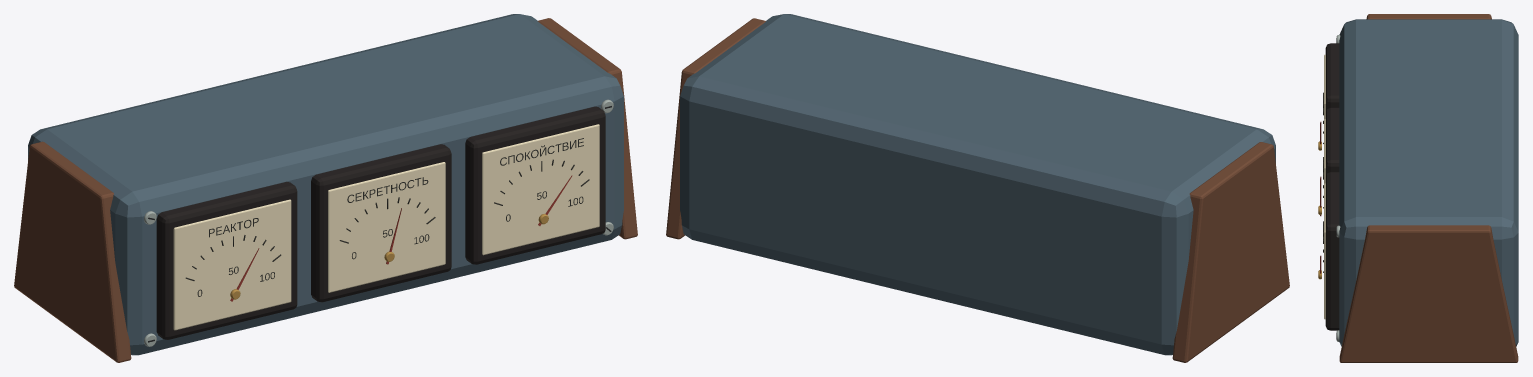
Rendered from TripleGaugePanel.fbx.
3 views of the same model, side by side, from view 1: azimuth 30°, elevation 25°; view 2: azimuth 150°, elevation 25°; view 3: azimuth 270°, elevation 25° (orthographic). The views are drawn at different scales.
Parts seen in each view (by area): view 1: Blue enamel case, Walnut end panel, Ivory dial.001, Ivory dial.002, Ivory dial.003, Gauge frame.001, Gauge frame.002, Gauge frame.003, Walnut end panel.001; view 2: Blue enamel case, Walnut end panel, Walnut end panel.001; view 3: Blue enamel case, Walnut end panel.001, Gauge frame.003, Gauge frame.001, Gauge frame.002, Walnut end panel, Ivory dial.003.
Boxes of the visible parts, box(x1,y1,x2,y2) form: Blue enamel case: box(28, 14, 623, 355); Walnut end panel: box(14, 141, 131, 362); Ivory dial.001: box(173, 199, 291, 330); Ivory dial.002: box(328, 162, 445, 292); Ivory dial.003: box(482, 124, 599, 255); Gauge frame.001: box(156, 181, 297, 339); Gauge frame.002: box(311, 144, 451, 302); Gauge frame.003: box(465, 106, 605, 264); Walnut end panel.001: box(537, 18, 637, 239); Blue enamel case: box(680, 14, 1275, 355); Walnut end panel: box(1172, 142, 1289, 362); Walnut end panel.001: box(666, 18, 765, 239); Blue enamel case: box(1339, 19, 1518, 346); Walnut end panel.001: box(1339, 225, 1518, 362); Gauge frame.003: box(1325, 172, 1339, 330); Gauge frame.001: box(1325, 43, 1339, 111); Gauge frame.002: box(1325, 107, 1339, 175); Walnut end panel: box(1366, 14, 1491, 19); Ivory dial.003: box(1324, 183, 1325, 319).
Size of the model in its own units: 0.947 by 0.284 by 0.3685.
